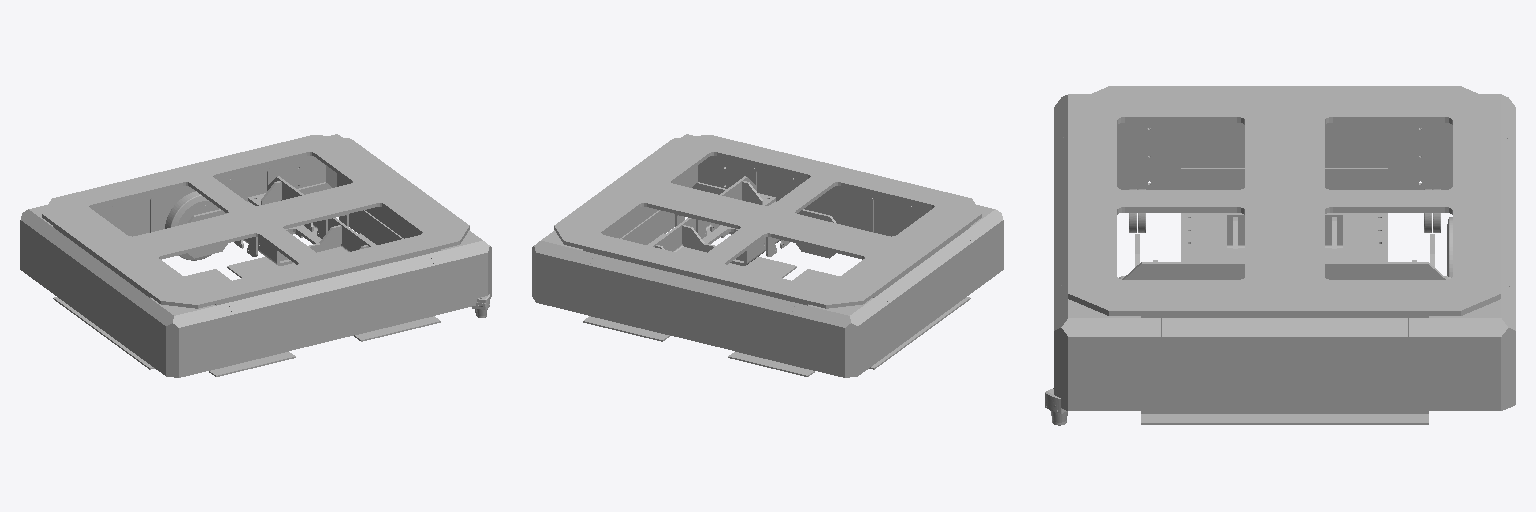
URDF robot description (spmr02):
<?xml version="1.0" encoding="utf-8"?>
<!-- test -->
<robot name="spmr02">

  <link name="base_link">
    <inertial>
      <origin
        xyz="-0.0453 0 0.0819"
        rpy="0 0 0" />
      <mass
        value="40.4946" />
      <inertia
        ixx="1.9227"
        ixy="0"
        ixz="0.0004"
        iyy="3.0661"
        iyz="0"
        izz="4.7255" />
    </inertial>
    <visual>
      <origin
        xyz="0 0 0"
        rpy="0 0 0" />
      <geometry>
        <mesh
          filename="package://spmr02/meshes/base_link.STL" />
      </geometry>
      <material
        name="">
        <color
          rgba="0.75294117 0.75294117 0.75294117 1" />
      </material>
    </visual>
    <collision>
      <origin
        xyz="0 0 0"
        rpy="0 0 0" />
      <geometry>
        <mesh
          filename="package://spmr02/meshes/base_link.STL" />
      </geometry>
    </collision>
  </link>

  <link name="right_wheel_link">
    <inertial>
      <origin
        xyz="-0.026126 -0.01 0"
        rpy="0 0 0" />
      <mass
        value="2.0043" />
      <inertia
        ixx="0.020935"
        ixy="0"
        ixz="0"
        iyy="0.010841"
        iyz="0"
        izz="0.010841" />
    </inertial>
    <visual>
      <origin
        xyz="0 0 0"
        rpy="0 0 0" />
      <geometry>
        <mesh
          filename="package://spmr02/meshes/right_wheel_link.STL" />
      </geometry>
      <material
        name="">
        <color
          rgba="0.75294 0.75294 0.75294 1" />
      </material>
    </visual>
    <collision>
      <origin
        xyz="0 0 0"
        rpy="0 0 0" />
      <geometry>
        <mesh
          filename="package://spmr02/meshes/right_wheel_link.STL" />
      </geometry>
    </collision>
  </link>

  <joint name="right_wheel_joint"
    type="continuous">
    <origin
      xyz="0 0.40407 -0.01"
      rpy="-1.5708 0 -1.5708" />
    <parent
      link="base_link" />
    <child
      link="right_wheel_link" />
    <axis
      xyz="1 0 0" />
  </joint>

  <link name="left_wheel_link">
    <inertial>
      <origin
        xyz="-0.026126 -0.01 0"
        rpy="0 0 0" />
      <mass
        value="2.0043" />
      <inertia
        ixx="0.020935"
        ixy="0"
        ixz="0"
        iyy="0.010841"
        iyz="0"
        izz="0.010841" />
    </inertial>
    <visual>
      <origin
        xyz="0 0 0"
        rpy="0 0 0" />
      <geometry>
        <mesh
          filename="package://spmr02/meshes/left_wheel_link.STL" />
      </geometry>
      <material
        name="">
        <color
          rgba="0.75294 0.75294 0.75294 1" />
      </material>
    </visual>
    <collision>
      <origin
        xyz="0 0 0"
        rpy="0 0 0" />
      <geometry>
        <mesh
          filename="package://spmr02/meshes/left_wheel_link.STL" />
      </geometry>
    </collision>
  </link>

  <joint name="left_wheel_joint"
    type="continuous">
    <origin
      xyz="0 -0.40407 0.01"
      rpy="1.5708 0 1.5708" />
    <parent
      link="base_link" />
    <child
      link="left_wheel_link" />
    <axis
      xyz="-1 0 0" />
  </joint>

  <link name="RF_scan_link">
    <inertial>
      <origin
        xyz="0.031494 -0.089376 0.016702"
        rpy="0 0 0" />
      <mass
        value="0.0083364" />
      <inertia
        ixx="0"
        ixy="0"
        ixz="0"
        iyy="0"
        iyz="0"
        izz="0" />
    </inertial>
    <visual>
      <origin
        xyz="0 0 0"
        rpy="0 0 0" />
      <geometry>
        <mesh
          filename="package://spmr02/meshes/RF_scan_link.STL" />
      </geometry>
      <material
        name="">
        <color
          rgba="0.75294 0.75294 0.75294 1" />
      </material>
    </visual>
    <collision>
      <origin
        xyz="0 0 0"
        rpy="0 0 0" />
      <geometry>
        <mesh
          filename="package://spmr02/meshes/RF_scan_link.STL" />
      </geometry>
    </collision>
  </link>

  <joint name="RF_scan_joint"
    type="fixed">
    <origin
      xyz="-0.61848 0.45171 -0.11141"
      rpy="-1.5708 0 0.7854" />
    <parent
      link="base_link" />
    <child
      link="RF_scan_link" />
    <axis
      xyz="0 0 0" />
  </joint>

  <link name="LR_scan_link">
    <inertial>
      <origin
        xyz="-0.045376 0 0.08196"
        rpy="0 0 0" />
      <mass
        value="40.495" />
      <inertia
        ixx="1.9227"
        ixy="0"
        ixz="0.0004014"
        iyy="3.0662"
        iyz="0"
        izz="4.7255" />
    </inertial>
    <visual>
      <origin
        xyz="0 0 0"
        rpy="0 0 0" />
      <geometry>
        <mesh
          filename="package://spmr02/meshes/LR_scan_link.STL" />
      </geometry>
      <material
        name="">
        <color
          rgba="0.75294 0.75294 0.75294 1" />
      </material>
    </visual>
    <collision>
      <origin
        xyz="0 0 0"
        rpy="0 0 0" />
      <geometry>
        <mesh
          filename="package://spmr02/meshes/LR_scan_link.STL" />
      </geometry>
    </collision>
  </link>

  <joint name="LR_scan_joint"
    type="fixed">
    <origin
      xyz="0.61848 -0.45171 -0.11141"
      rpy="-1.5708 0 -2.3562" />
    <parent
      link="base_link" />
    <child
      link="LR_scan_link" />
    <axis
      xyz="0 0 0" />
  </joint>

  <gazebo>
    <plugin name="gazebo_ros_control" filename="libgazebo_ros_control.so">
        <robotNamespace>/spmr02</robotNamespace>
    </plugin>

    <plugin name="differential_drive_controller" filename="libgazebo_ros_diff_drive.so">
        <alwaysOn>true</alwaysOn>
        <updateRate>100</updateRate>
        <leftJoint>left_wheel_joint</leftJoint>
        <rightJoint>right_wheel_joint</rightJoint>
        <torque>200</torque>
        <commandTopic>cmd_val</commandTopic>
        <odometryTopic>/odom</odometryTopic>
        <odometryFrame>odom</odometryFrame>
        <rosDebugLevel>1</rosDebugLevel>
        <publishWheelTF>false</publishWheelTF>
        <publishOdomTF>true</publishOdomTF>
        <publishWheelJointState>false</publishWheelJointState>
        <wheelAcceleration>3</wheelAcceleration>
        <wheelTorque>500</wheelTorque>
        <odometrySource>world</odometrySource>
        <publishTf>1</publishTf>
        <robotBaseFrame>base_link</robotBaseFrame>
        <wheelSeparation>0.8</wheelSeparation>
        <wheelDiameter>0.265</wheelDiameter>
    </plugin>
</gazebo>

</robot>

--- Render facts (derived) ---
The picture shows the robot from 3 angles, left to right: view 1: azimuth 30°, elevation 25°; view 2: azimuth 150°, elevation 25°; view 3: azimuth 270°, elevation 25°; orthographic projection.
Robot: spmr02 — 5 links, 4 joints (2 continuous, 2 fixed); root link base_link; default pose: every joint at zero.
Visible links, largest first — view 1: base_link, left_wheel_link; view 2: base_link; view 3: base_link.
Boxes of the visible links, x1,y1,x2,y2 form: base_link: (20,134,491,377); left_wheel_link: (165,191,226,260); base_link: (532,134,1003,377); base_link: (1054,86,1515,424).
Size in the robot's own frame: 1.39 by 1.17 by 0.3395 metres.
Meshes: 5 distinct files referenced, 3 mesh visuals loaded (3 binary STL); not drawn: 2 (reference not matched to a file when rendering).
